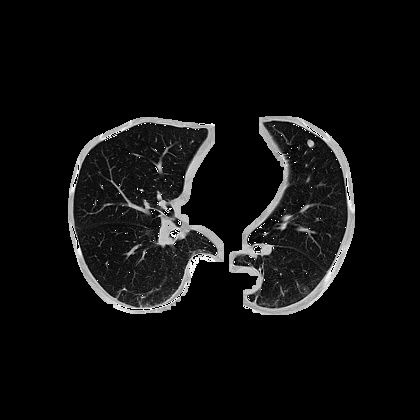PN: (306, 139, 314, 147)
